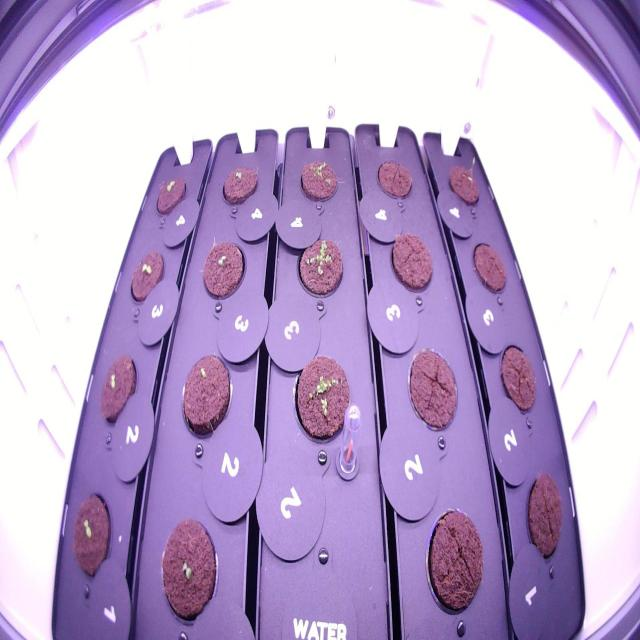germination: (154, 512, 223, 629), (286, 344, 356, 451), (178, 344, 236, 446), (67, 486, 114, 590), (197, 232, 250, 314), (291, 230, 348, 306), (95, 346, 141, 435), (125, 243, 168, 312), (293, 152, 344, 207), (443, 149, 484, 217), (216, 159, 263, 213), (148, 170, 192, 222)
pod: (421, 499, 488, 626), (404, 340, 462, 441), (522, 465, 568, 571), (496, 337, 542, 427), (386, 225, 437, 300), (467, 236, 513, 298), (372, 152, 417, 204)
